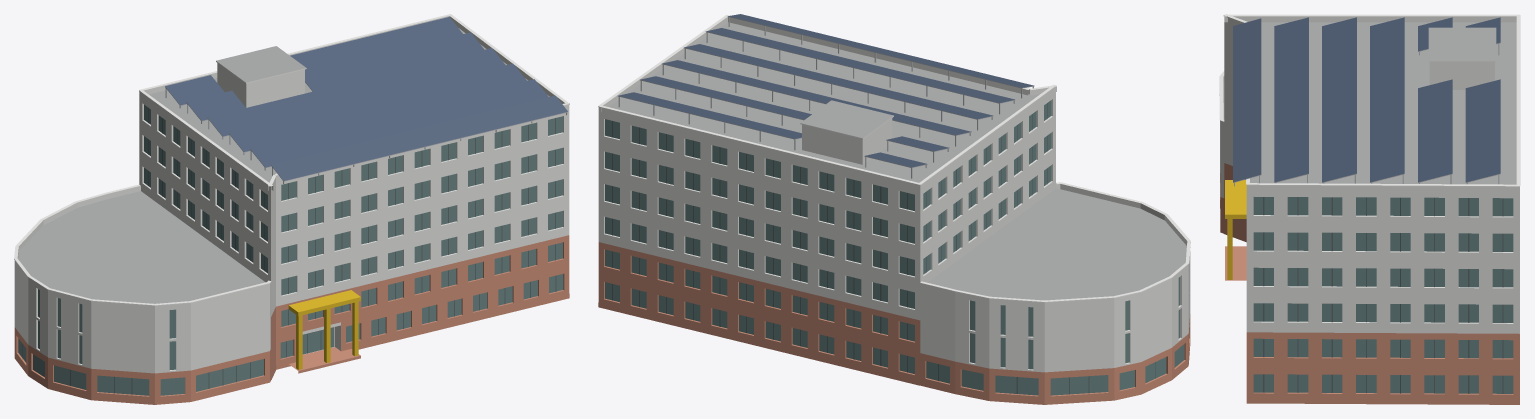
3 renders of one model, left to right at view 1: azimuth 30°, elevation 25°; view 2: azimuth 150°, elevation 25°; view 3: azimuth 270°, elevation 25°, orthographic. The views are drawn at different scales.
Visible parts, largest first — view 1: international__wall, international__pvPanel, international__glass, international__roof, international__base, international__parapet, international__trim, international__frame, international__column, international__canopy, international__pvFrame; view 2: international__wall, international__roof, international__glass, international__base, international__pvPanel, international__parapet, international__trim, international__pvFrame, international__frame; view 3: international__wall, international__pvPanel, international__glass, international__roof, international__base, international__parapet, international__trim, international__frame, international__canopy, international__pvFrame, international__column.
Part boxes in pixels (x1=…): international__wall: x1=14, y1=63, x2=569, y2=373; international__pvPanel: x1=165, y1=17, x2=567, y2=180; international__glass: x1=18, y1=104, x2=563, y2=395; international__roof: x1=18, y1=28, x2=549, y2=303; international__base: x1=14, y1=235, x2=569, y2=404; international__parapet: x1=14, y1=16, x2=569, y2=310; international__trim: x1=14, y1=14, x2=569, y2=306; international__frame: x1=22, y1=107, x2=556, y2=394; international__column: x1=296, y1=301, x2=358, y2=369; international__canopy: x1=288, y1=290, x2=360, y2=316; international__pvFrame: x1=165, y1=82, x2=567, y2=183; international__wall: x1=598, y1=92, x2=1190, y2=372; international__roof: x1=609, y1=22, x2=1186, y2=300; international__glass: x1=605, y1=100, x2=1184, y2=395; international__base: x1=598, y1=242, x2=1190, y2=404; international__pvPanel: x1=618, y1=14, x2=1033, y2=167; international__parapet: x1=598, y1=17, x2=1188, y2=307; international__trim: x1=598, y1=15, x2=1190, y2=302; international__pvFrame: x1=618, y1=16, x2=1034, y2=178; international__frame: x1=612, y1=103, x2=1155, y2=394; international__wall: x1=1220, y1=22, x2=1519, y2=333; international__pvPanel: x1=1233, y1=17, x2=1500, y2=182; international__glass: x1=1253, y1=197, x2=1513, y2=393; international__roof: x1=1223, y1=22, x2=1516, y2=184; international__base: x1=1220, y1=163, x2=1519, y2=404; international__parapet: x1=1220, y1=16, x2=1519, y2=191; international__trim: x1=1219, y1=14, x2=1520, y2=187; international__frame: x1=1263, y1=197, x2=1503, y2=393; international__canopy: x1=1225, y1=180, x2=1246, y2=218; international__pvFrame: x1=1233, y1=42, x2=1500, y2=186; international__column: x1=1227, y1=219, x2=1232, y2=279.
Bounding box in the file's own units: 58.49 × 24.6 × 27.71.
